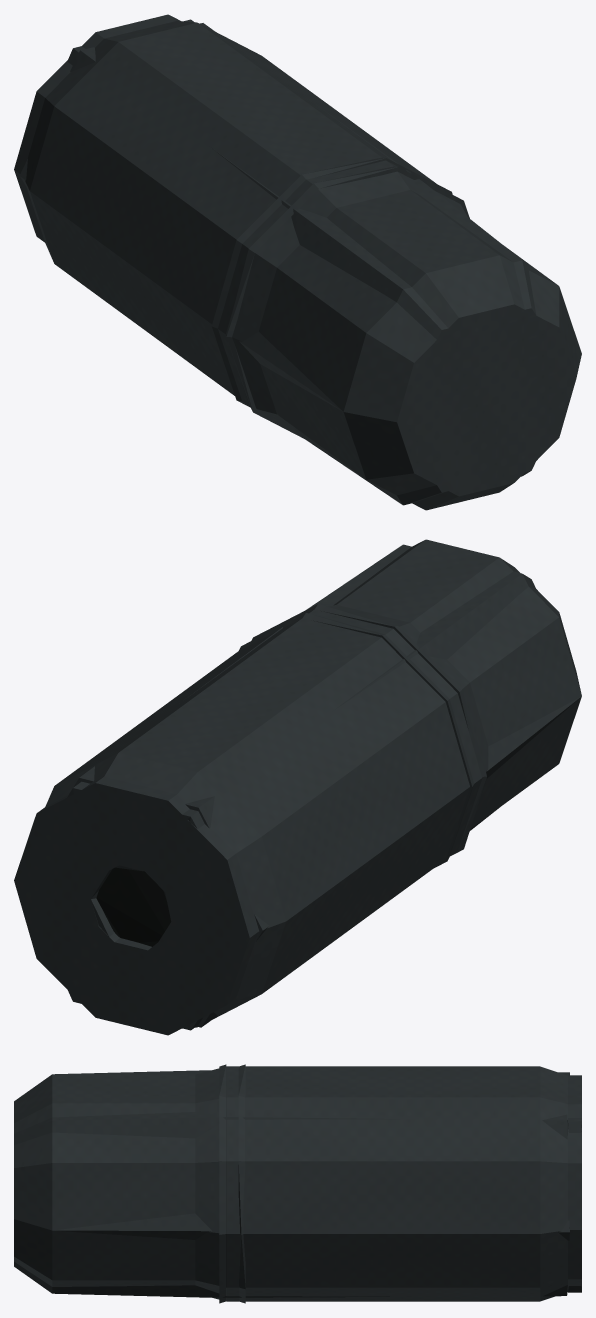
The model's file is vityaz_can.glb.
3 renders of one model, top to bottom at view 1: azimuth 30°, elevation 25°; view 2: azimuth 150°, elevation 25°; view 3: azimuth 270°, elevation 25°, orthographic. The views are drawn at different scales.
Parts seen in each view (by area): view 1: muzzle__vityaz_can_LOD0_RAID_Secondary_Original_steel, muzzle__vityaz_can_LOD1_RAID_Secondary_Original_steel; view 2: muzzle__vityaz_can_LOD0_RAID_Secondary_Original_steel, muzzle__vityaz_can_LOD1_RAID_Secondary_Original_steel, muzzle__vityaz_can_LOD0_RAID_Secondary_Original_rubber; view 3: muzzle__vityaz_can_LOD0_RAID_Secondary_Original_steel, muzzle__vityaz_can_LOD1_RAID_Secondary_Original_steel.
Part boxes in pixels (x1,y1,x2,y2): muzzle__vityaz_can_LOD0_RAID_Secondary_Original_steel: (14,14,581,510); muzzle__vityaz_can_LOD1_RAID_Secondary_Original_steel: (19,19,575,505); muzzle__vityaz_can_LOD0_RAID_Secondary_Original_steel: (14,539,581,1035); muzzle__vityaz_can_LOD1_RAID_Secondary_Original_steel: (67,544,581,1030); muzzle__vityaz_can_LOD0_RAID_Secondary_Original_rubber: (96,868,171,946); muzzle__vityaz_can_LOD0_RAID_Secondary_Original_steel: (14,1064,581,1303); muzzle__vityaz_can_LOD1_RAID_Secondary_Original_steel: (14,1070,581,1297).
Size of the model in its own units: 0.0692 by 0.0658 by 0.163.
Materials: 2 (2 with a texture image).
